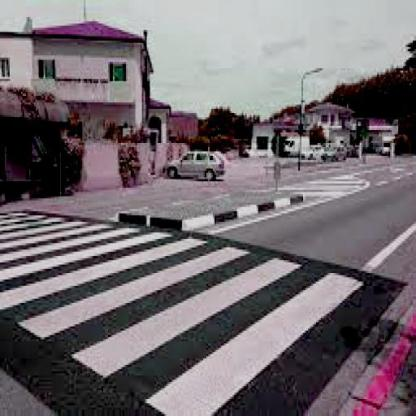crosswalk: (14, 241, 354, 383)
